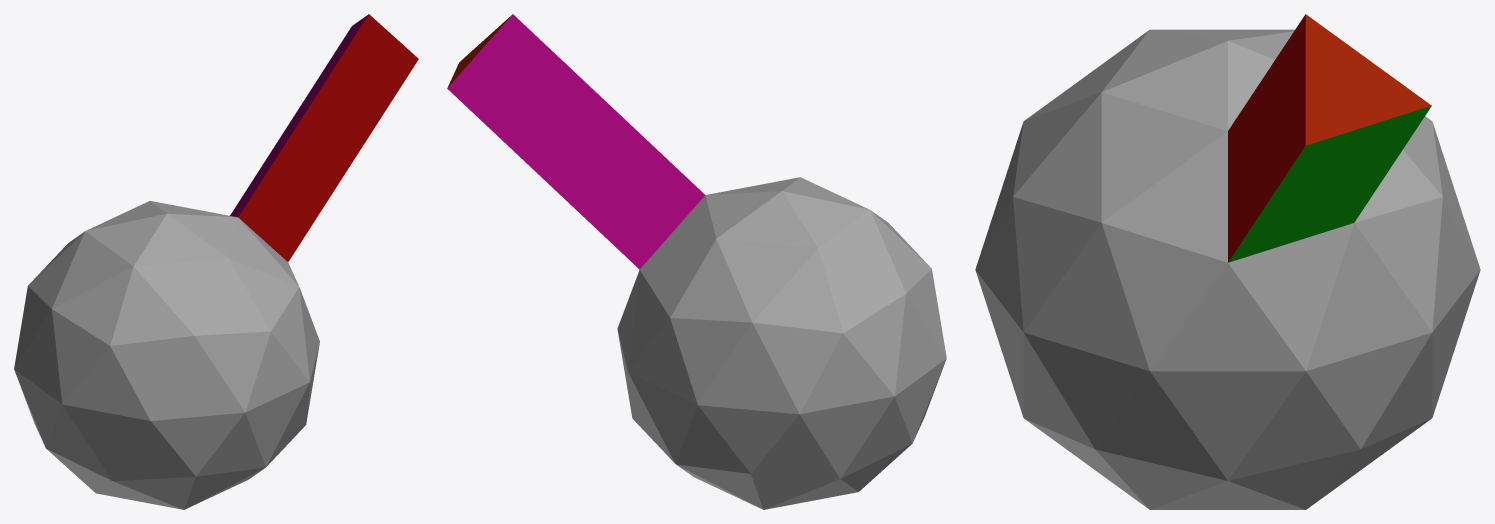
The model's file is ico.obj.
The picture shows the model from 3 angles, left to right: view 1: azimuth 30°, elevation 25°; view 2: azimuth 150°, elevation 25°; view 3: azimuth 270°, elevation 25°; orthographic projection. The views are drawn at different scales.
Visible parts, largest first — view 1: Icosphere; view 2: Icosphere; view 3: Icosphere.
Boxes of the visible parts, x1=… form: Icosphere: x1=14, y1=14, x2=418, y2=509; Icosphere: x1=447, y1=14, x2=946, y2=509; Icosphere: x1=975, y1=14, x2=1480, y2=509.
Size of the model in its own units: 2.99 by 2.89 by 2.
